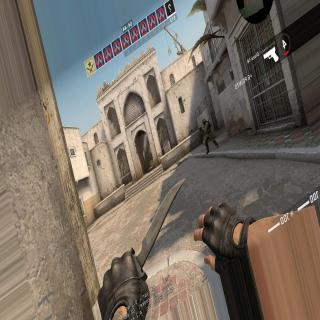CT-Body: (200, 116, 218, 155)
CT-Head: (201, 117, 207, 125)
